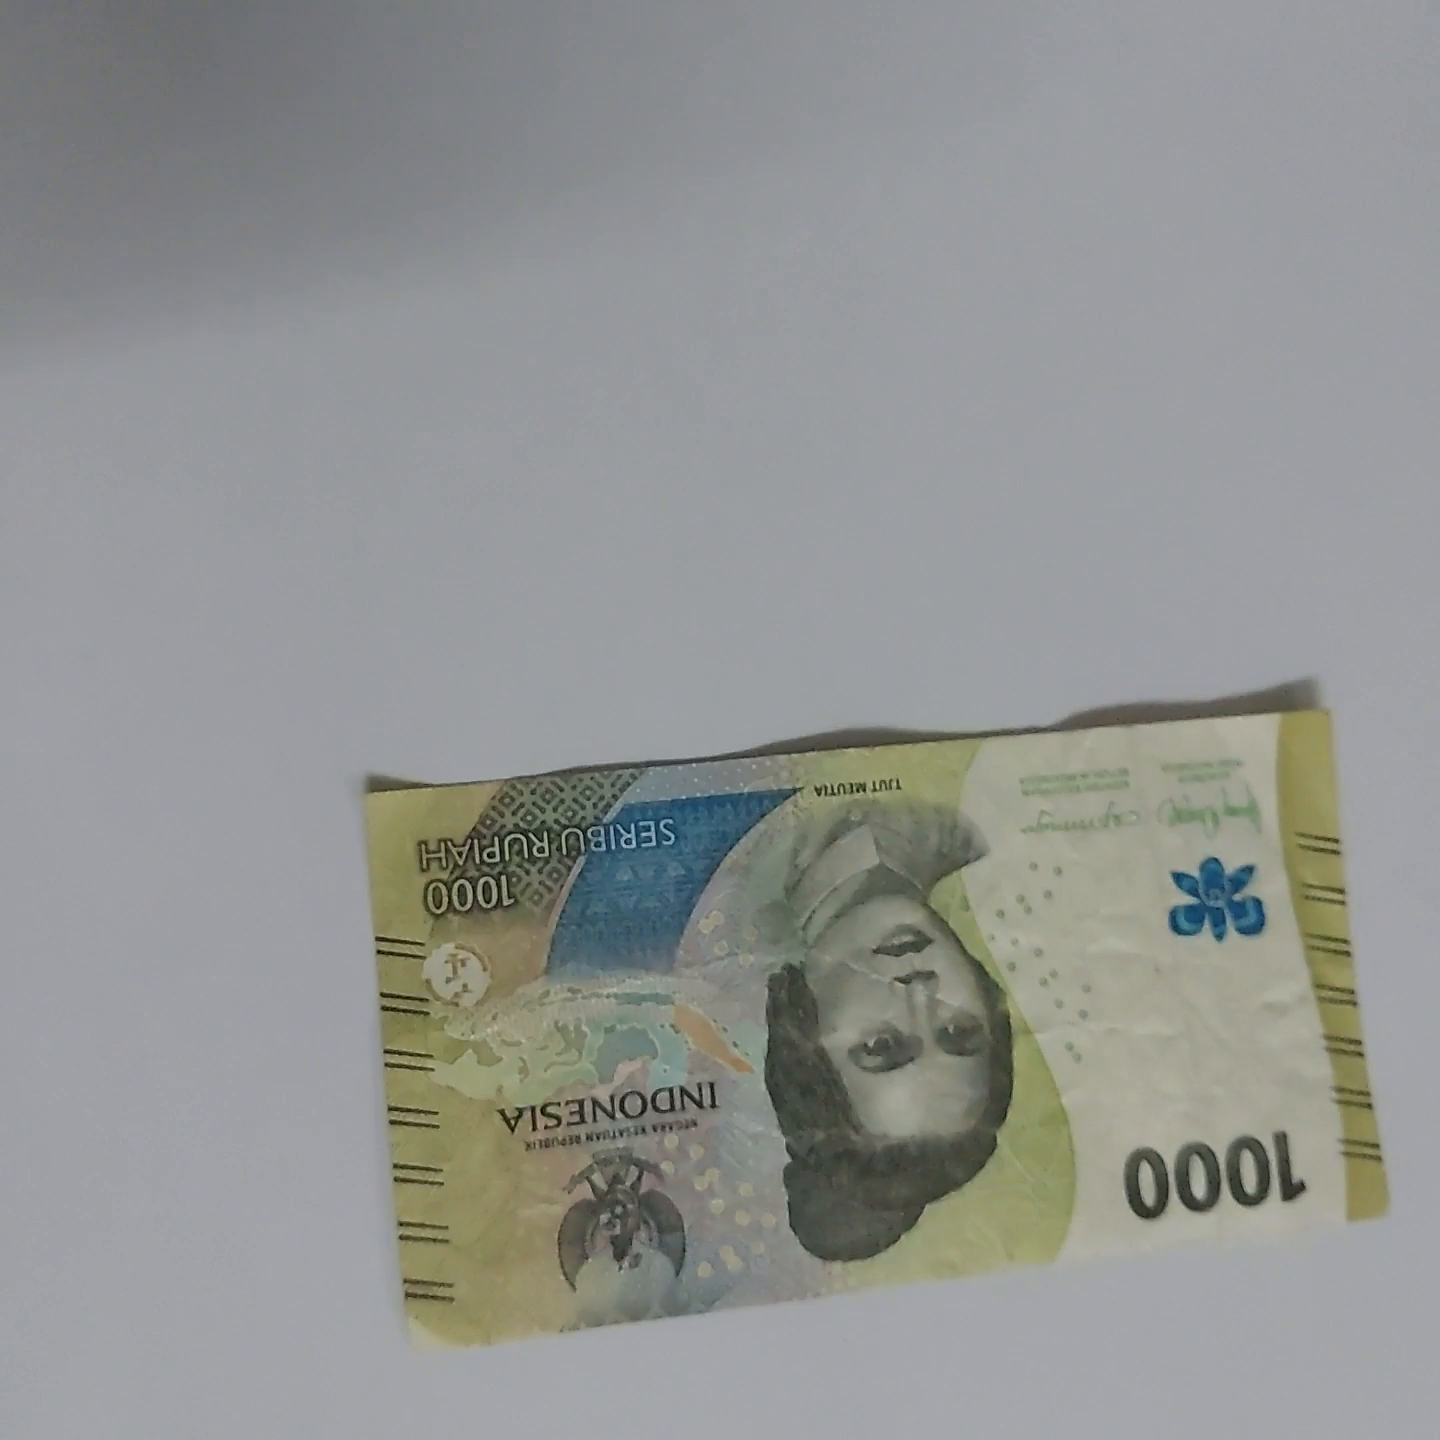1k: (299, 782, 1370, 1361)
